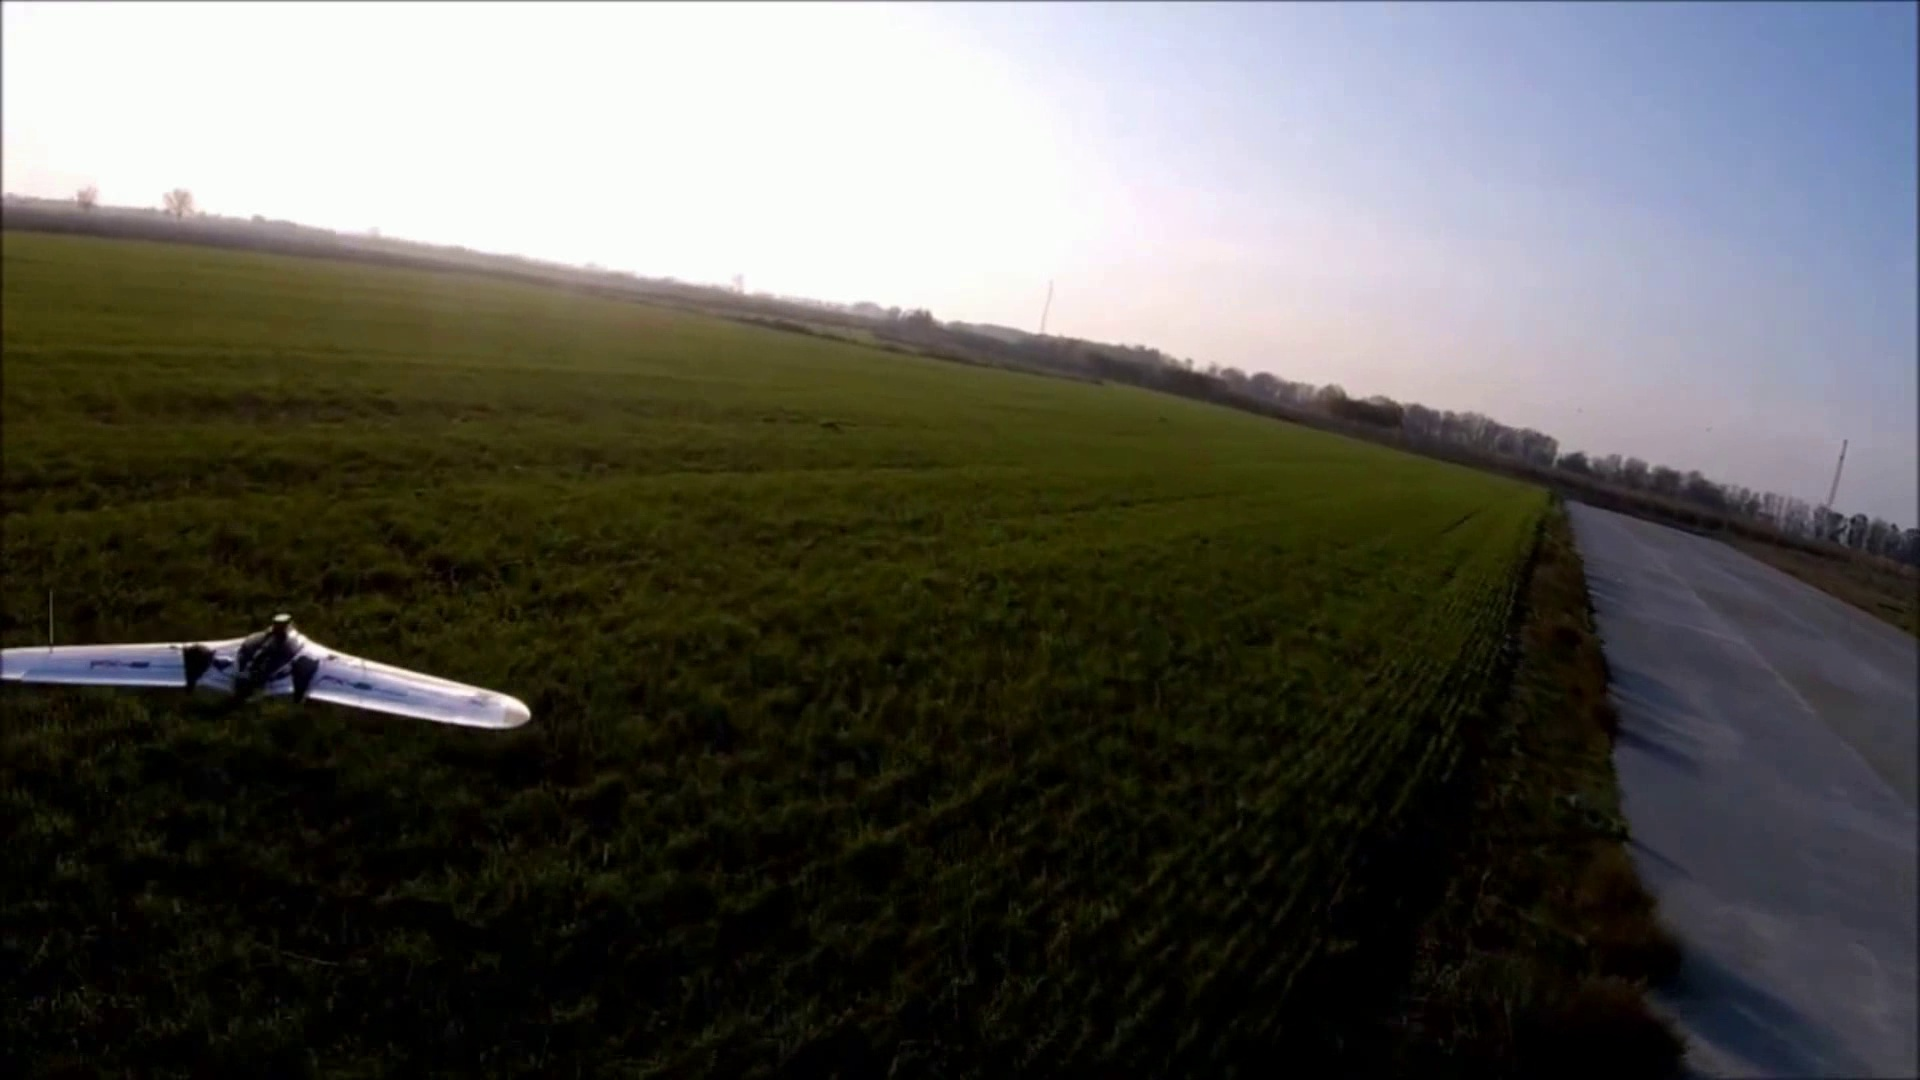airplane: (0, 619, 531, 733)
